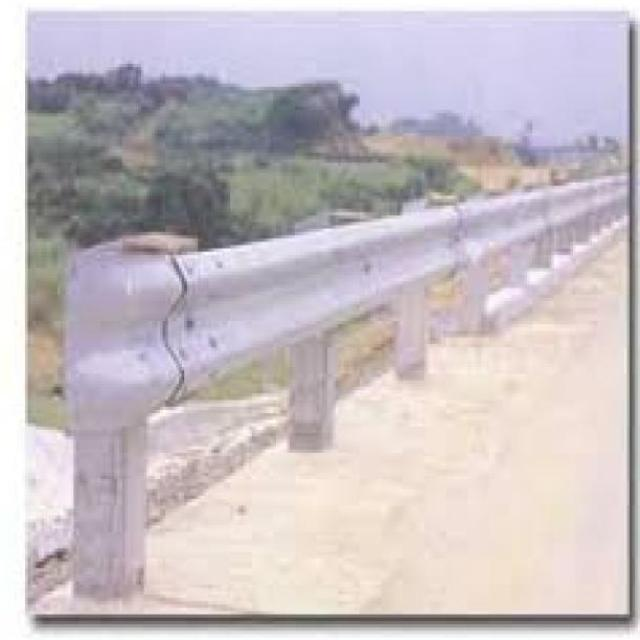Guard rail: (63, 171, 627, 432)
